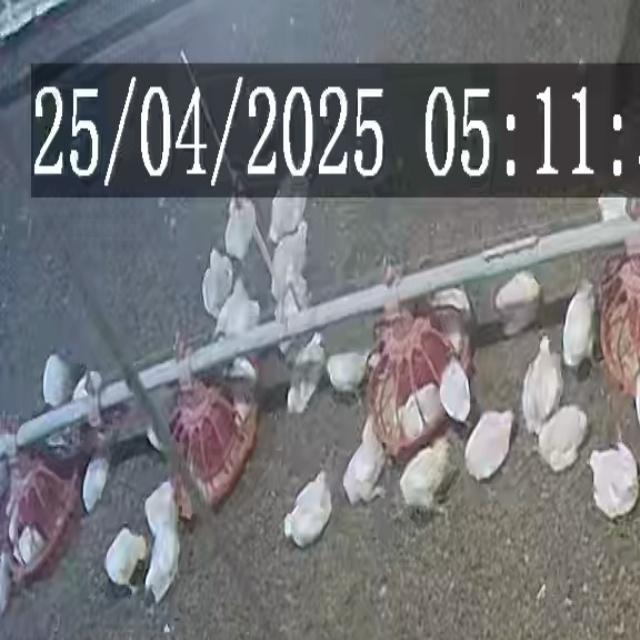chicken: (397, 436, 457, 510), (586, 442, 640, 517), (280, 469, 332, 546), (520, 337, 562, 432), (462, 409, 514, 483), (536, 405, 588, 473), (286, 333, 327, 414), (211, 276, 261, 342), (561, 280, 598, 369), (144, 519, 181, 604), (344, 426, 386, 500), (492, 272, 540, 336), (102, 527, 148, 592), (397, 384, 443, 445), (268, 224, 310, 290), (268, 185, 309, 247), (222, 193, 258, 261), (201, 250, 235, 318), (38, 357, 86, 404), (438, 358, 472, 424), (141, 482, 182, 532), (325, 350, 369, 396), (81, 453, 109, 512), (361, 413, 383, 456)
